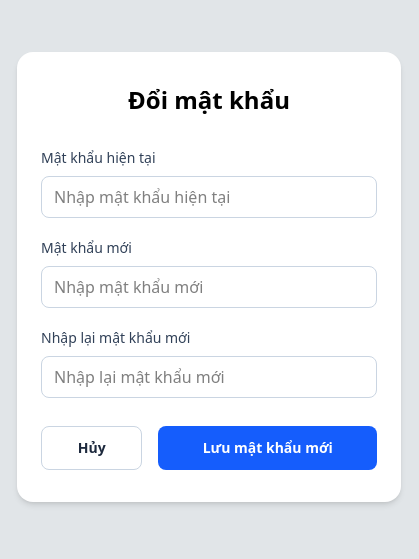
Test: ChangePassword Page › Edge cases › submit_shouldShowRequiredErrors_whenSubmitEmptyForm
Click the button "Lưu mật khẩu mới" at coordinates (268, 448), box top-left (158, 426), bottom-right (377, 470)
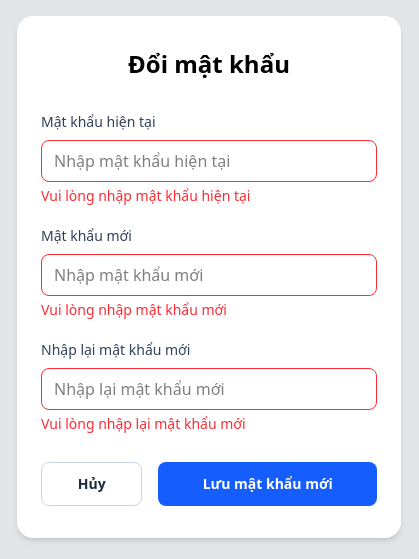
Expected: the text "Vui lòng nhập mật khẩu hiện tại" is shown, top-left (41, 186), bottom-right (250, 205)
Expected: the text "Vui lòng nhập mật khẩu mới" is shown, top-left (41, 300), bottom-right (227, 319)
Expected: the text "Vui lòng nhập lại mật khẩu mới" is shown, top-left (41, 414), bottom-right (246, 433)
